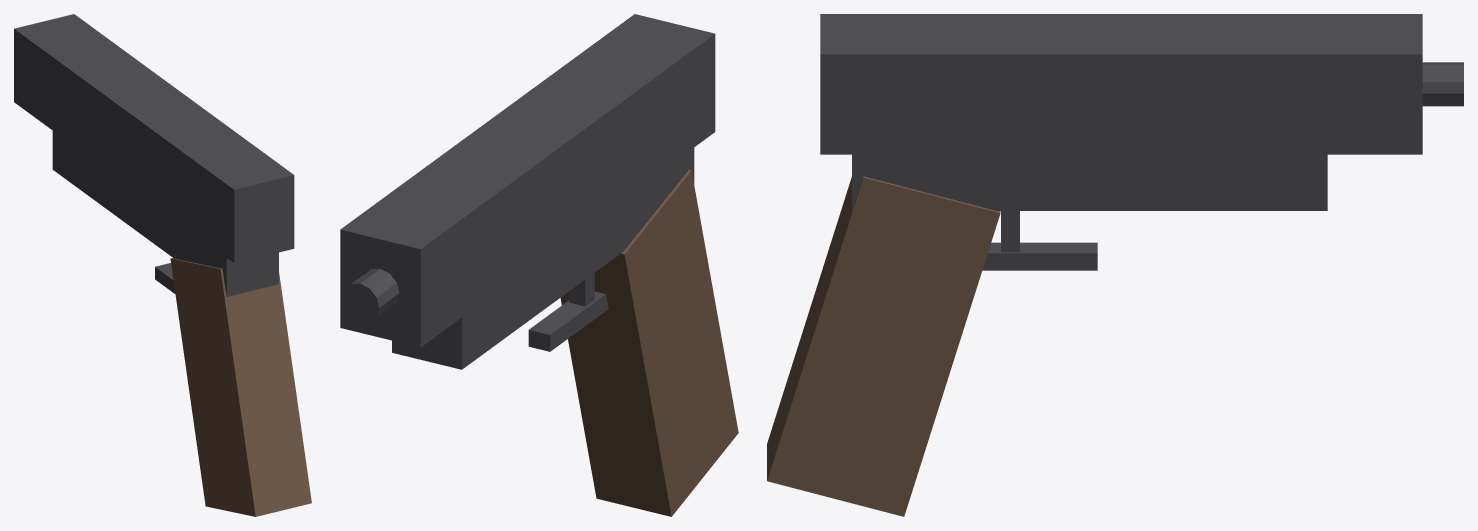
The model's file is pistol.glb.
The picture shows the model from 3 angles, left to right: view 1: azimuth 30°, elevation 25°; view 2: azimuth 150°, elevation 25°; view 3: azimuth 270°, elevation 25°; orthographic projection. The views are drawn at different scales.
Parts seen in each view (by area): view 1: Schlitten, Griff, Rahmen, Abzugsbuegel; view 2: Schlitten, Griff, Rahmen, Abzugsbuegel, Muendung, Abzug; view 3: Schlitten, Griff, Rahmen, Abzugsbuegel, Muendung, Abzug.
Boxes of the visible parts, x1=… form: Schlitten: x1=14, y1=14, x2=294, y2=263; Griff: x1=170, y1=258, x2=311, y2=516; Rahmen: x1=52, y1=131, x2=278, y2=296; Abzugsbuegel: x1=155, y1=263, x2=175, y2=293; Schlitten: x1=340, y1=14, x2=715, y2=347; Griff: x1=560, y1=170, x2=738, y2=516; Rahmen: x1=392, y1=148, x2=694, y2=369; Abzugsbuegel: x1=528, y1=291, x2=608, y2=351; Muendung: x1=341, y1=269, x2=399, y2=322; Abzug: x1=569, y1=273, x2=594, y2=306; Schlitten: x1=820, y1=14, x2=1422, y2=154; Griff: x1=767, y1=176, x2=1000, y2=516; Rahmen: x1=852, y1=154, x2=1327, y2=210; Abzugsbuegel: x1=982, y1=242, x2=1097, y2=270; Muendung: x1=1422, y1=62, x2=1463, y2=106; Abzug: x1=1001, y1=211, x2=1019, y2=251.
Size of the model in its own units: 0.03 by 0.1616 by 0.2198.
